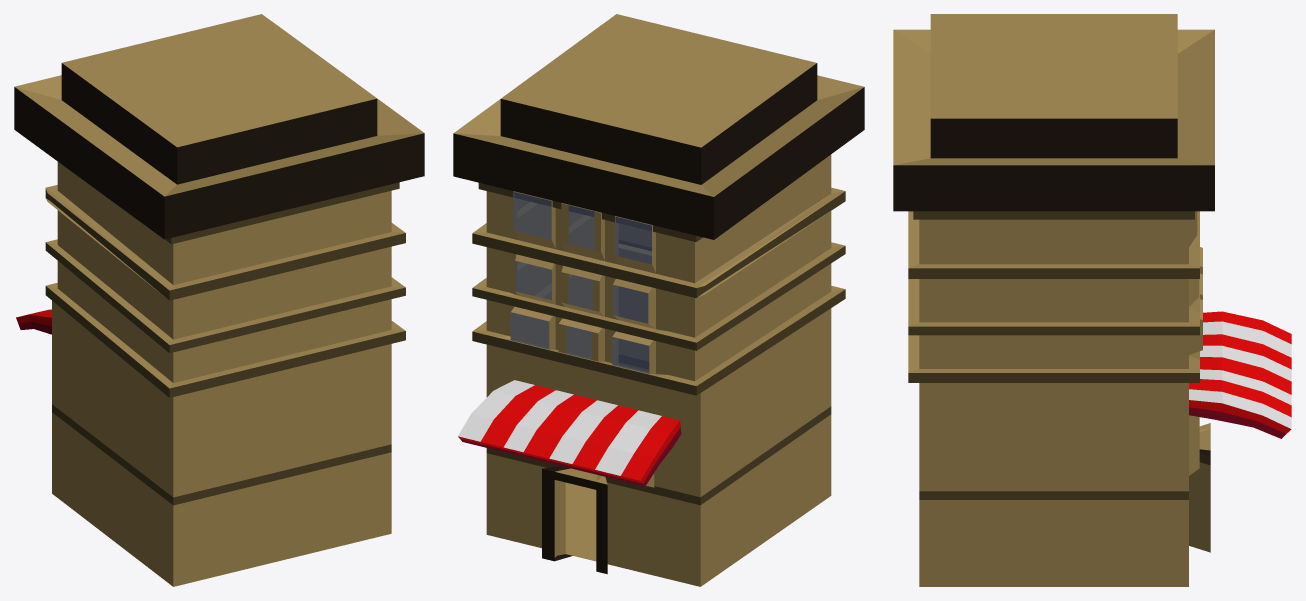
Rendered from new-pizzeria.fbx.
The picture shows the model from 3 angles, left to right: view 1: azimuth 30°, elevation 25°; view 2: azimuth 150°, elevation 25°; view 3: azimuth 270°, elevation 25°; orthographic projection. The views are drawn at different scales.
Visible parts, largest first — view 1: pCube3, shadeforbuilding:pCube2; view 2: pCube3, shadeforbuilding:pCube2; view 3: pCube3, shadeforbuilding:pCube2.
Part boxes in pixels (x1,y1,x2,y2): pCube3: (14,14,424,586); shadeforbuilding:pCube2: (16,309,51,334); pCube3: (453,14,864,586); shadeforbuilding:pCube2: (458,380,681,486); pCube3: (893,14,1214,586); shadeforbuilding:pCube2: (1189,311,1291,438).
Bounding box in the file's own units: 25.35 × 40.36 × 31.4.
